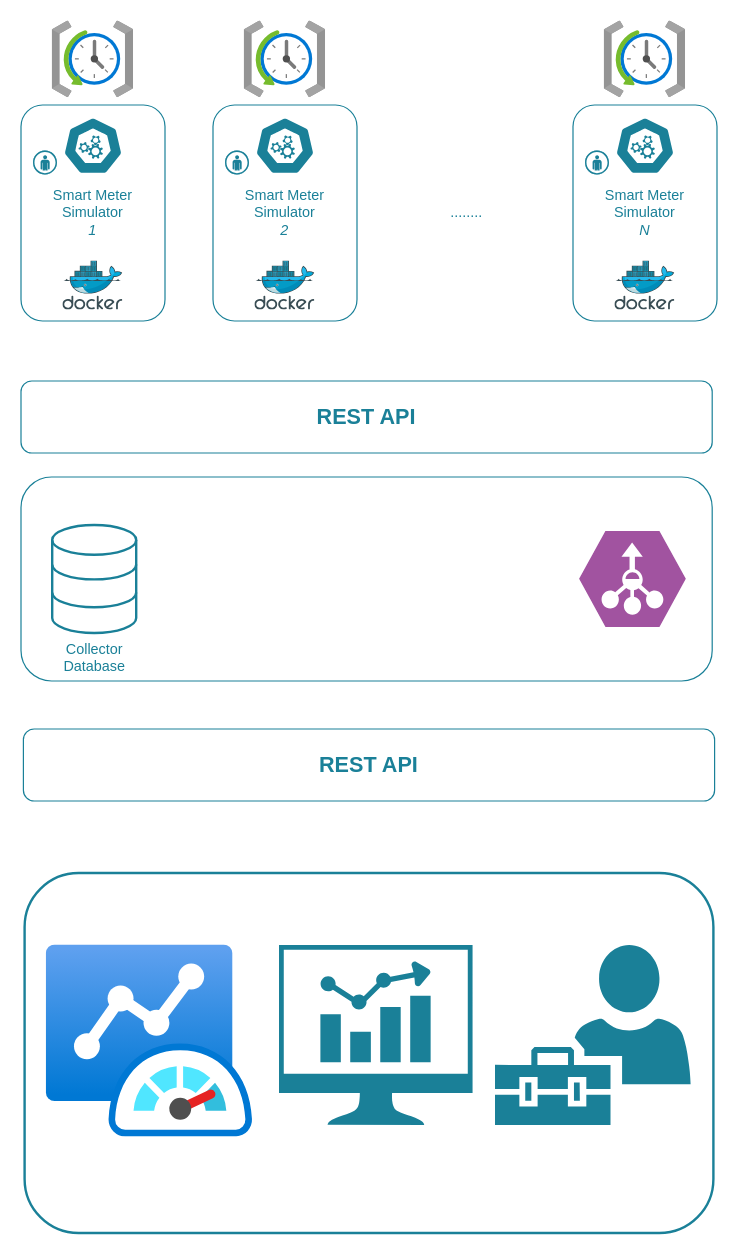
Image size: 738x1254. Some labels were removed from this diagram. The shapes that lost their labels are listed below. From the top down, each one's box as (x1, y1, x2, y2) in pixels, then its label:
(20, 476, 712, 681): Smart Meter Collector Backend
(23, 871, 714, 1234): Smart Meter Collector Frontend
